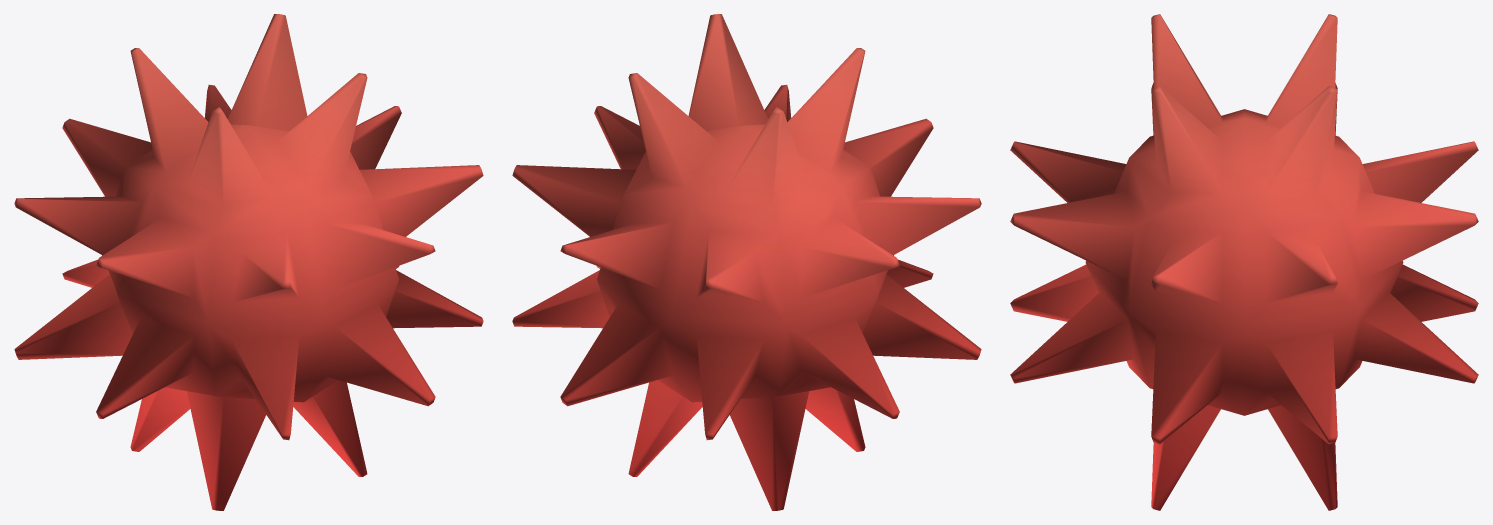
The model's file is mine.fbx.
3 renders of one model, left to right at view 1: azimuth 30°, elevation 25°; view 2: azimuth 150°, elevation 25°; view 3: azimuth 270°, elevation 25°, orthographic. The views are drawn at different scales.
Parts seen in each view (by area): view 1: Spikes; view 2: Spikes; view 3: Spikes.
Part boxes in pixels (x1,y1,x2,y2): Spikes: [14, 14, 483, 510]; Spikes: [512, 14, 981, 510]; Spikes: [1010, 14, 1478, 510].
Bounding box in the file's own units: 247 × 247 × 247.
